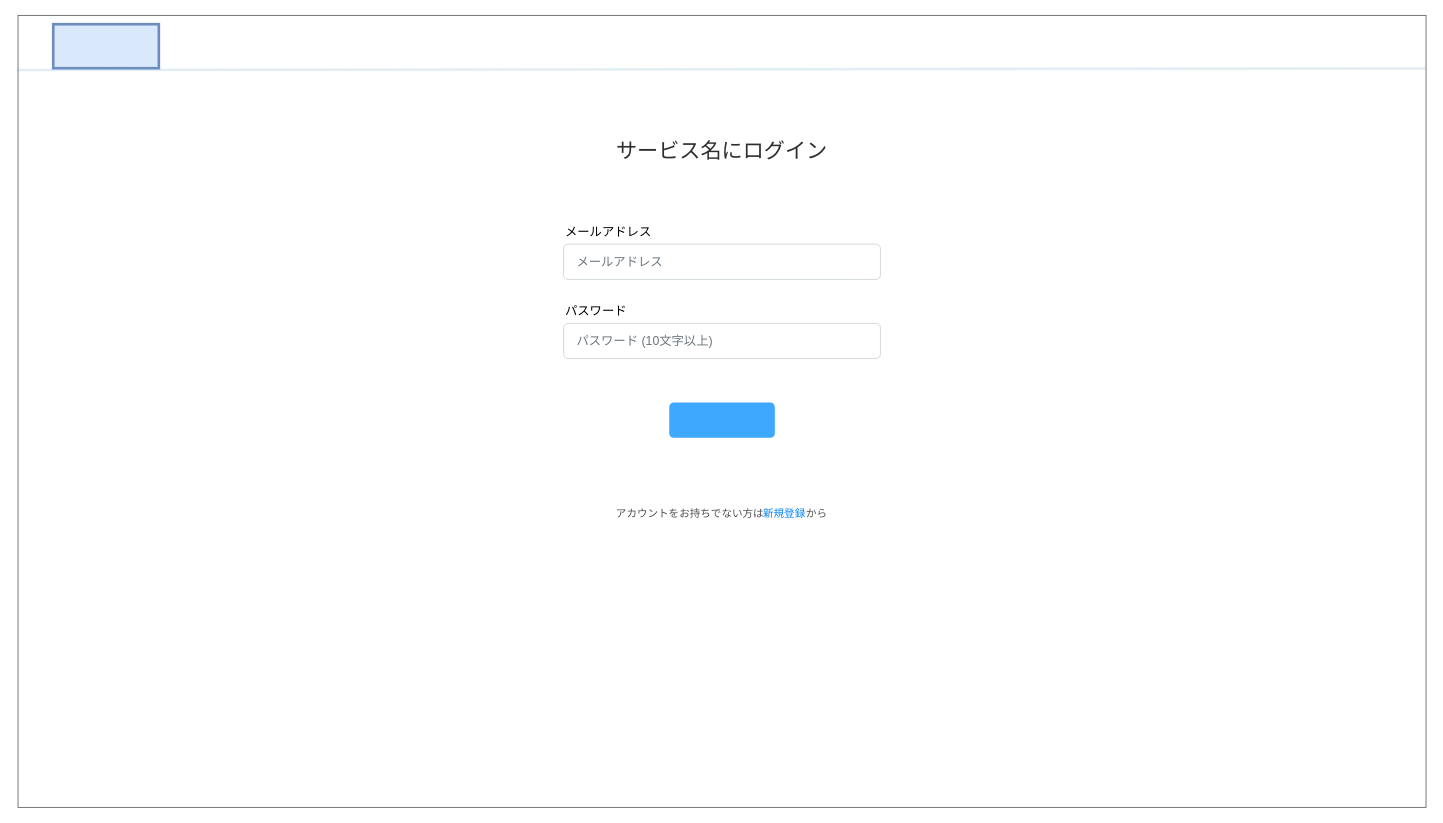
The diagram is 1443 pixels wide and 823 high, and some of its shapes have lost their labels. Here are the shapes that lost their labels. From the top down, the centre of each, then its label:
the point at 105,45: ロゴ
the point at 721,419: ログイン
